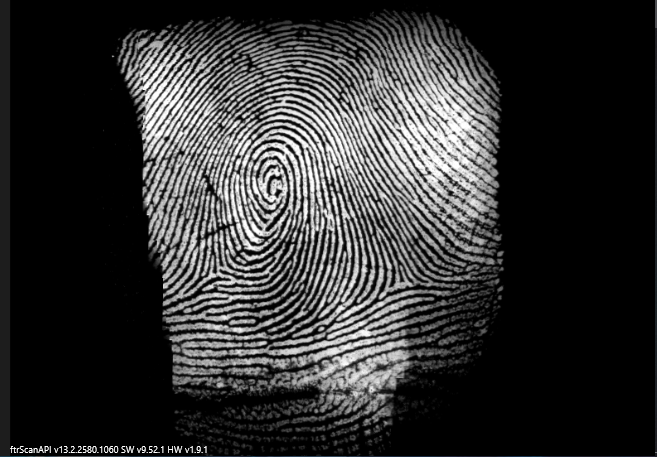nucelo: (257, 160, 287, 208)
verticilo: (201, 254, 227, 286), (367, 218, 394, 246)
